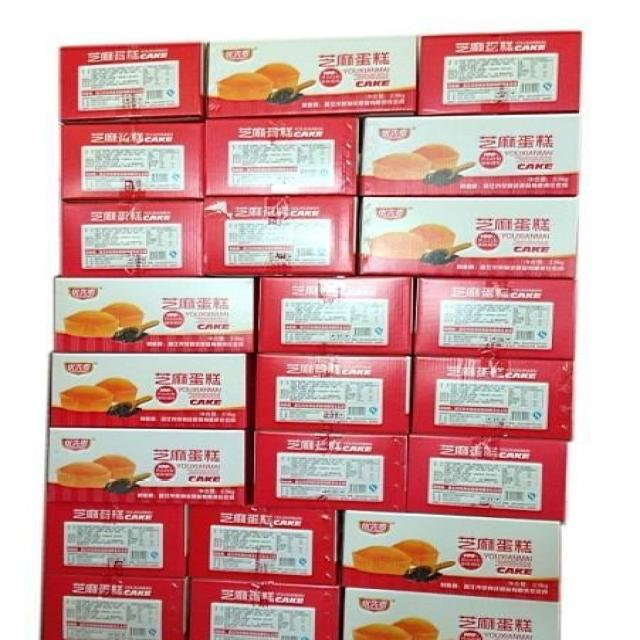box: (337, 510, 561, 602), (355, 195, 579, 278), (360, 113, 580, 196), (204, 36, 419, 118), (45, 426, 254, 506), (49, 351, 256, 430), (55, 275, 254, 353), (408, 355, 574, 441), (412, 275, 576, 361), (407, 433, 567, 521), (417, 31, 581, 115), (253, 275, 413, 356), (203, 194, 358, 277), (253, 429, 408, 512), (254, 353, 411, 434), (203, 117, 361, 196), (188, 504, 337, 585), (61, 118, 204, 202), (342, 586, 561, 639), (59, 42, 204, 122), (43, 503, 190, 579), (61, 199, 204, 277), (40, 574, 190, 639), (189, 580, 344, 639)
